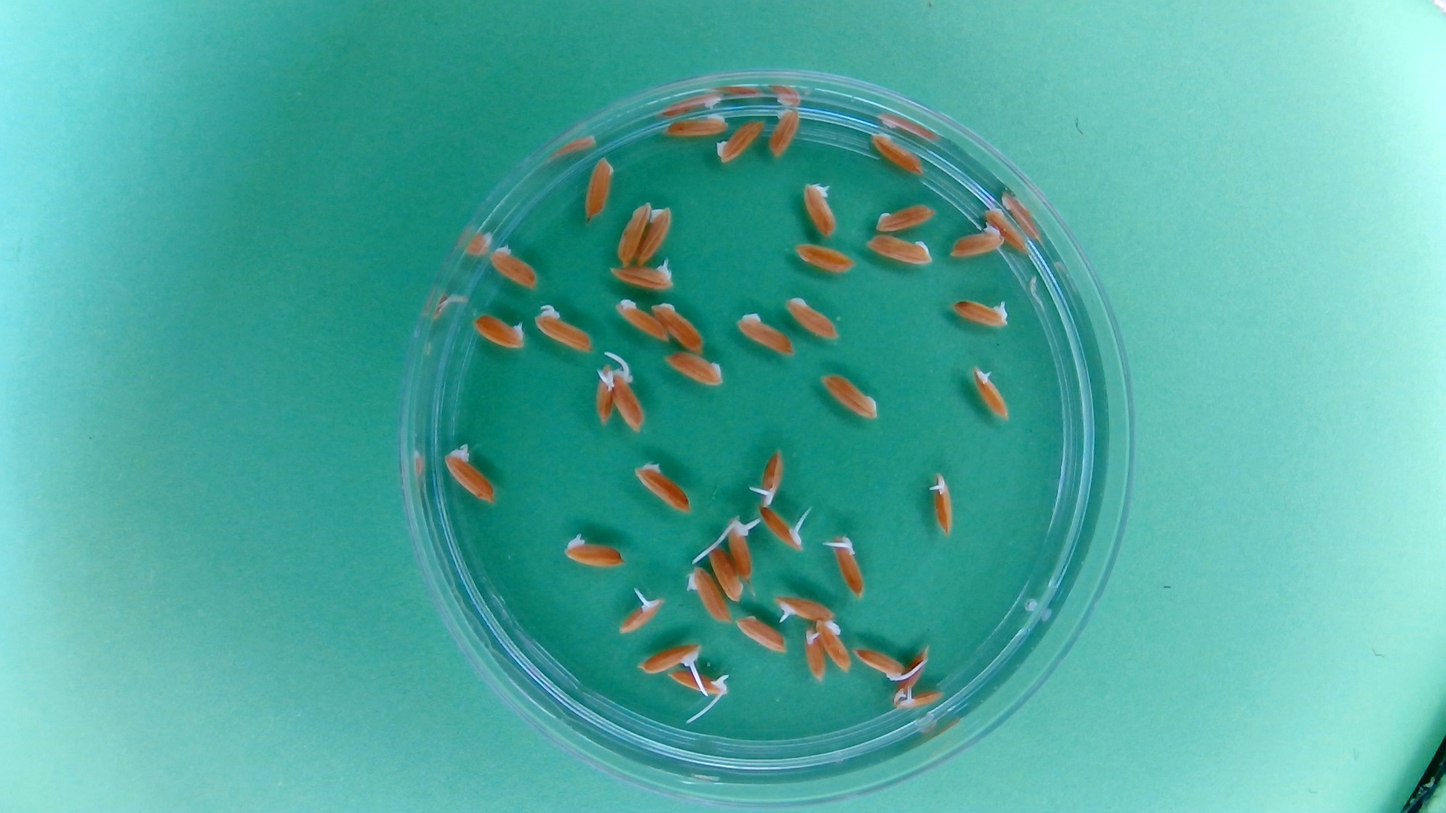no: (633, 458, 692, 515), (443, 445, 497, 505), (651, 298, 707, 355), (734, 308, 797, 358), (818, 371, 880, 421), (868, 129, 928, 178), (683, 564, 731, 625), (782, 293, 841, 342), (612, 296, 669, 344), (487, 242, 541, 292), (864, 231, 934, 269), (662, 350, 728, 389), (714, 117, 766, 166), (981, 202, 1030, 254), (470, 310, 529, 353), (581, 154, 617, 224), (615, 199, 652, 266), (561, 533, 626, 571), (636, 202, 673, 268), (705, 544, 744, 604), (791, 242, 857, 276), (873, 201, 938, 235), (815, 616, 853, 674), (660, 111, 731, 141), (733, 614, 786, 654), (894, 641, 929, 700), (766, 105, 803, 160), (948, 227, 1004, 257), (801, 625, 828, 684)
yes: (533, 304, 594, 355), (609, 366, 647, 434), (758, 501, 807, 551), (828, 534, 866, 598), (801, 178, 840, 239), (971, 365, 1011, 422), (609, 259, 676, 293), (637, 641, 703, 675), (617, 591, 666, 635), (950, 294, 1011, 328), (853, 645, 908, 682), (727, 513, 756, 581), (773, 593, 837, 623), (667, 668, 728, 697), (929, 471, 956, 536), (755, 447, 784, 506), (591, 364, 617, 428), (892, 685, 945, 710)
